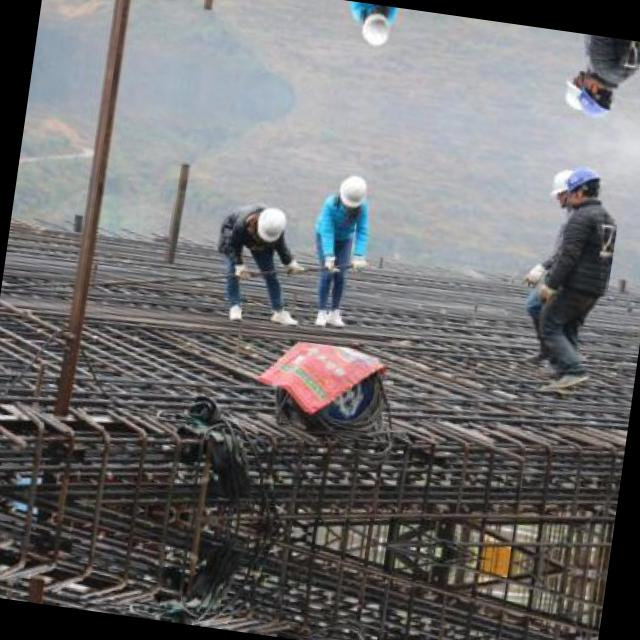helmet: (356, 6, 396, 56), (334, 165, 374, 214), (574, 74, 617, 118), (561, 166, 604, 209), (250, 200, 292, 242), (550, 166, 577, 212), (564, 68, 591, 114)
